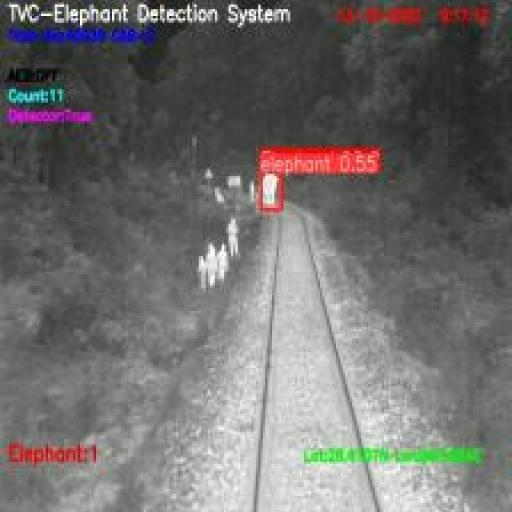Elephant: (261, 172, 281, 209)
